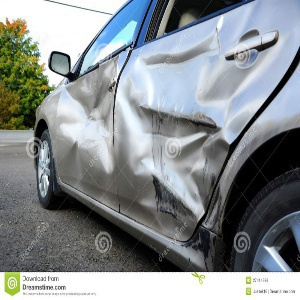door: (58, 83, 217, 189)
